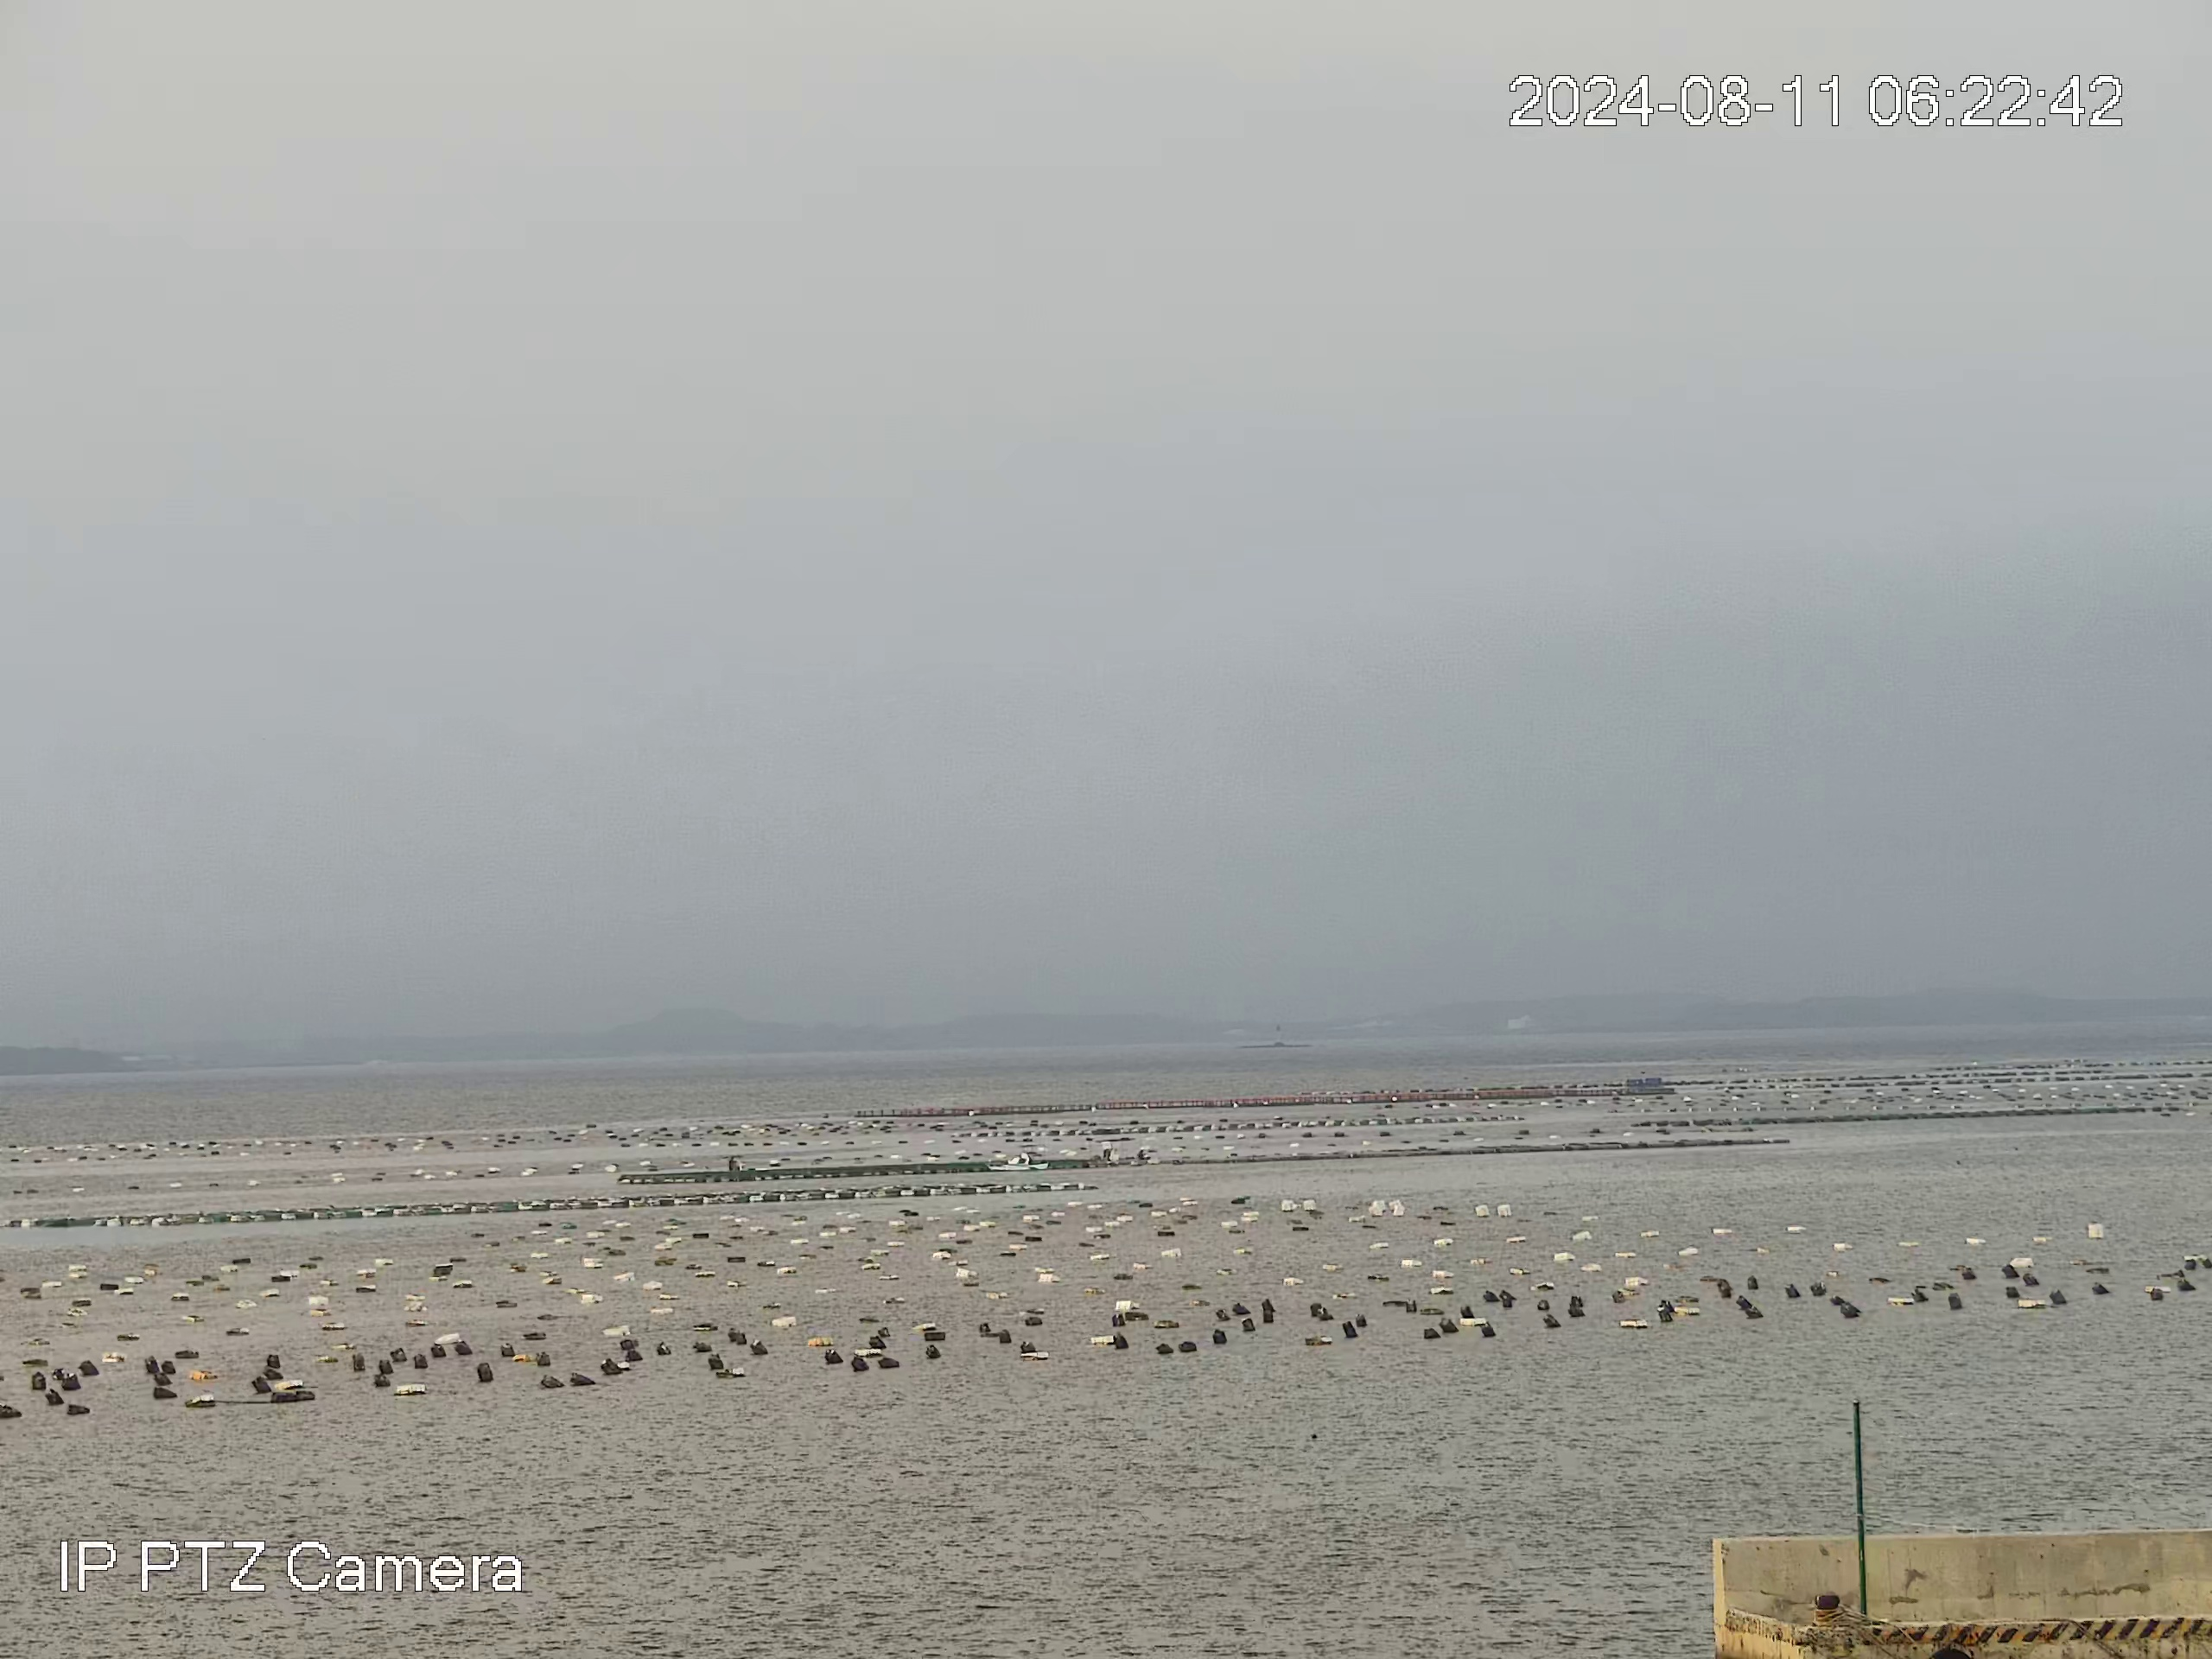boat: (984, 1150, 1050, 1173)
